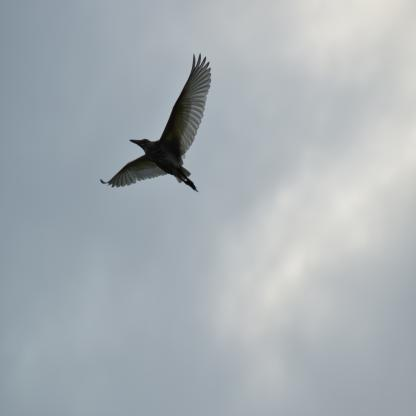bird: (100, 52, 212, 194)
